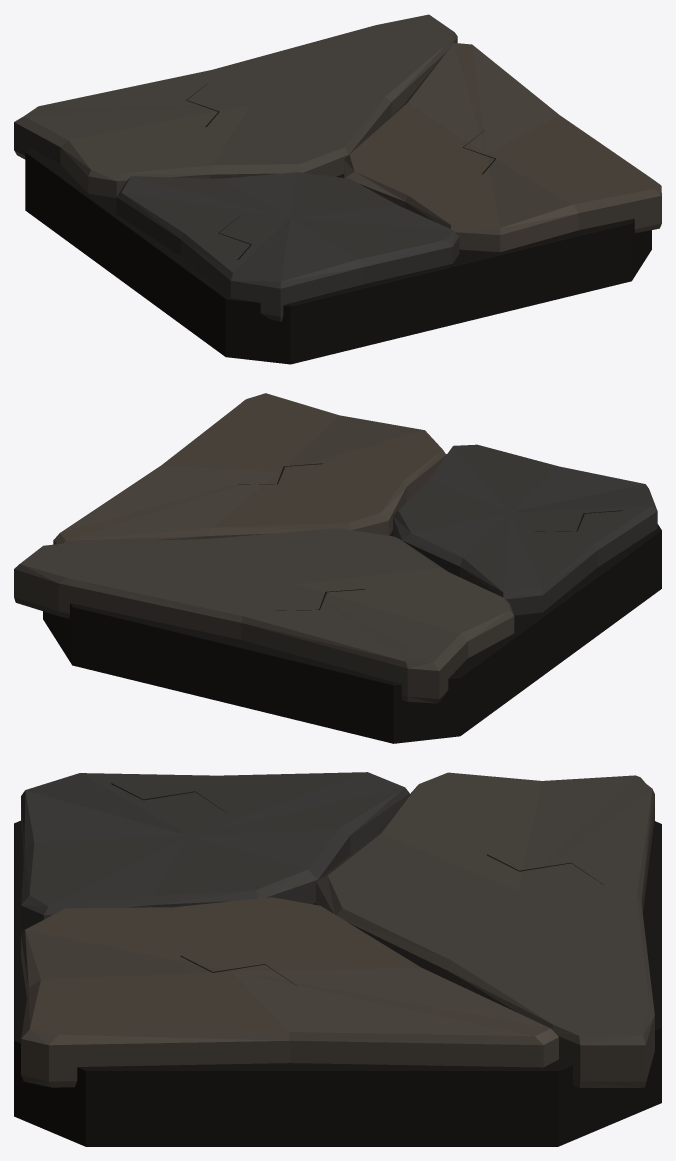
The model's file is Floor_Stone_A.fbx.
The picture shows the model from 3 angles, top to bottom: view 1: azimuth 30°, elevation 25°; view 2: azimuth 150°, elevation 25°; view 3: azimuth 270°, elevation 25°; orthographic projection. The views are drawn at different scales.
Visible parts, largest first — view 1: Floor_Stone_A; view 2: Floor_Stone_A; view 3: Floor_Stone_A.
Boxes of the visible parts, x1,y1,x2,y2 form: Floor_Stone_A: (14, 14, 661, 364); Floor_Stone_A: (14, 393, 661, 743); Floor_Stone_A: (14, 772, 661, 1146).
Bounding box in the file's own units: 1 × 0.1804 × 1.
1 material, 1 textured.
